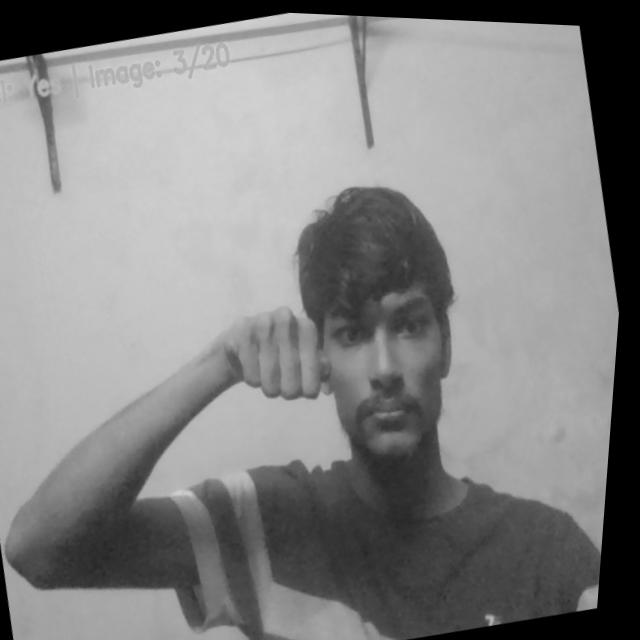Yes: (226, 290, 347, 415)
